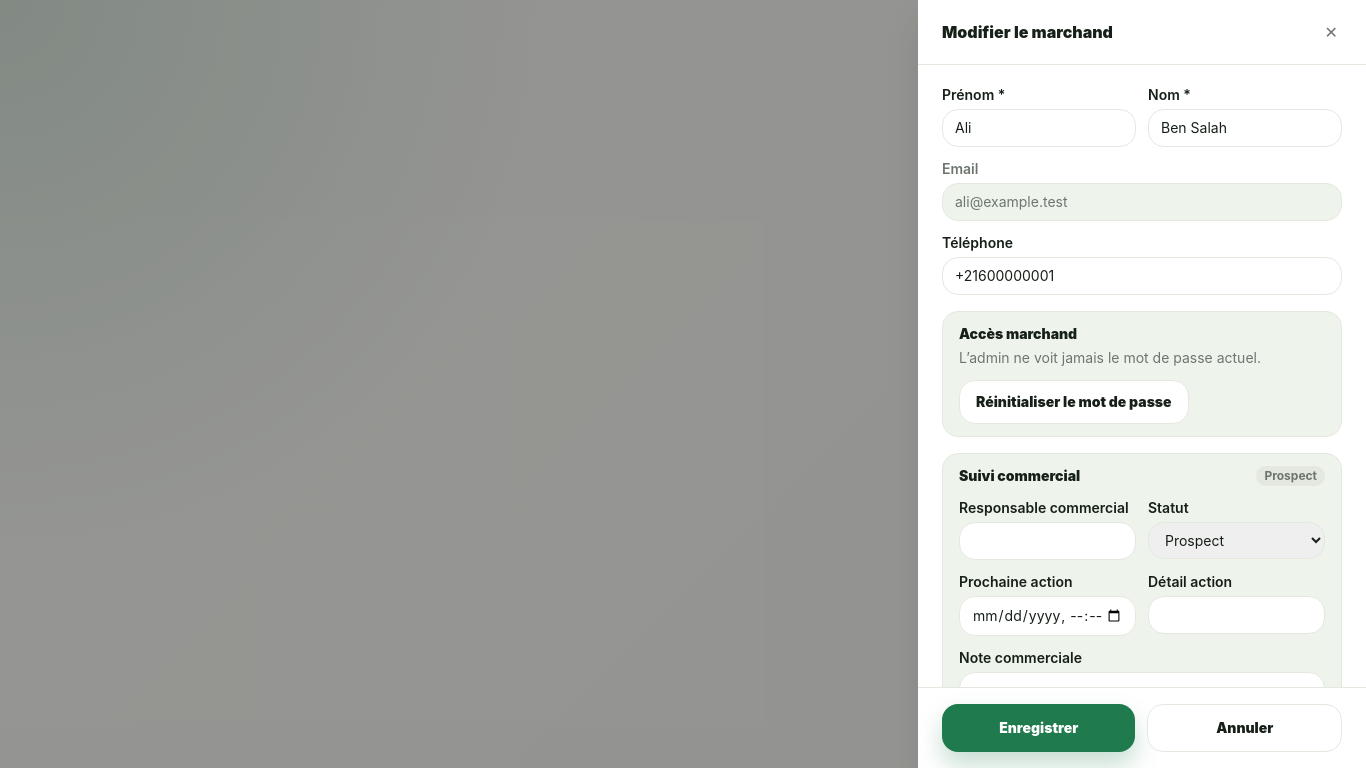
Scenario: MerchantDrawer › supprime le mot de passe temporaire après sauvegarde réussie
Click the button "Réinitialiser le mot de passe": (1074, 402) top-left (959, 380), bottom-right (1189, 424)
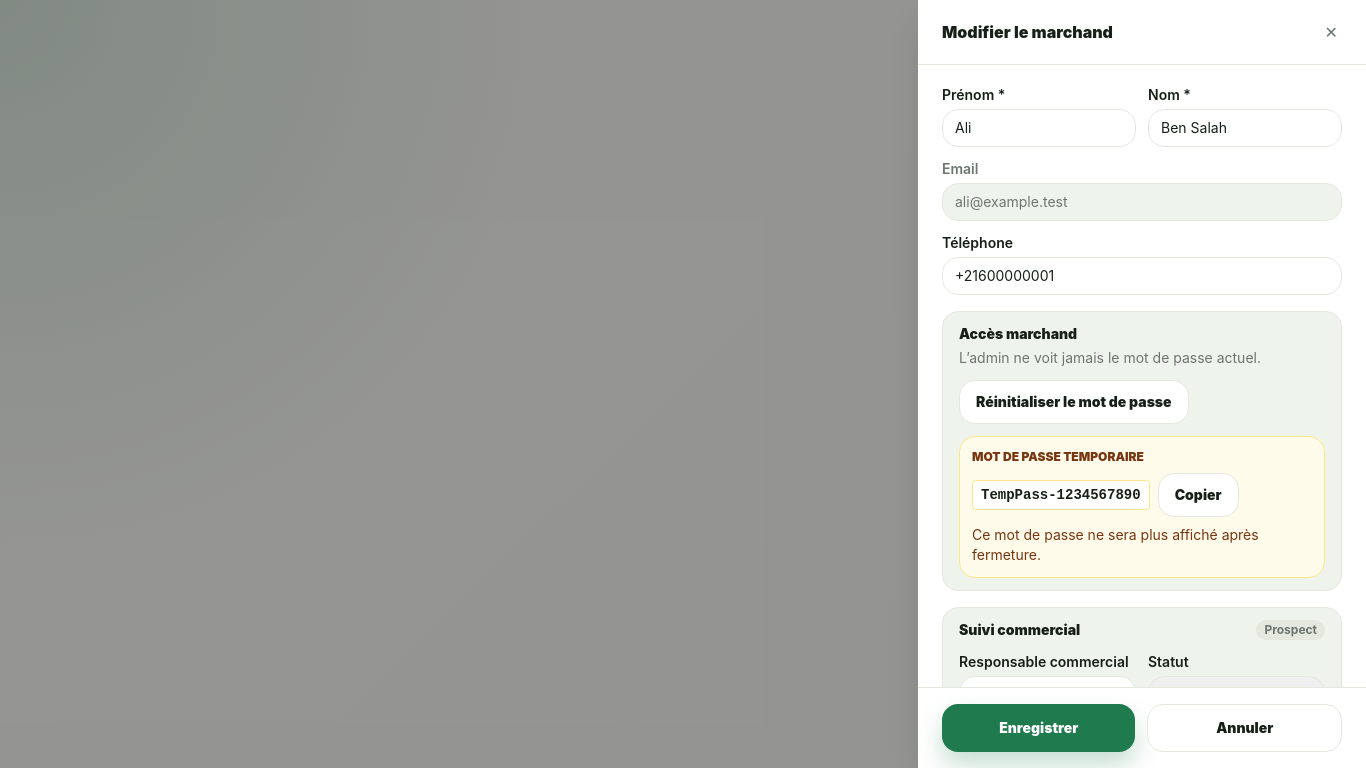
Check: the text "TempPass-1234567890" is shown, box top-left (972, 480), bottom-right (1150, 510)
Click the button "Enregistrer": (1039, 728) top-left (942, 704), bottom-right (1135, 752)
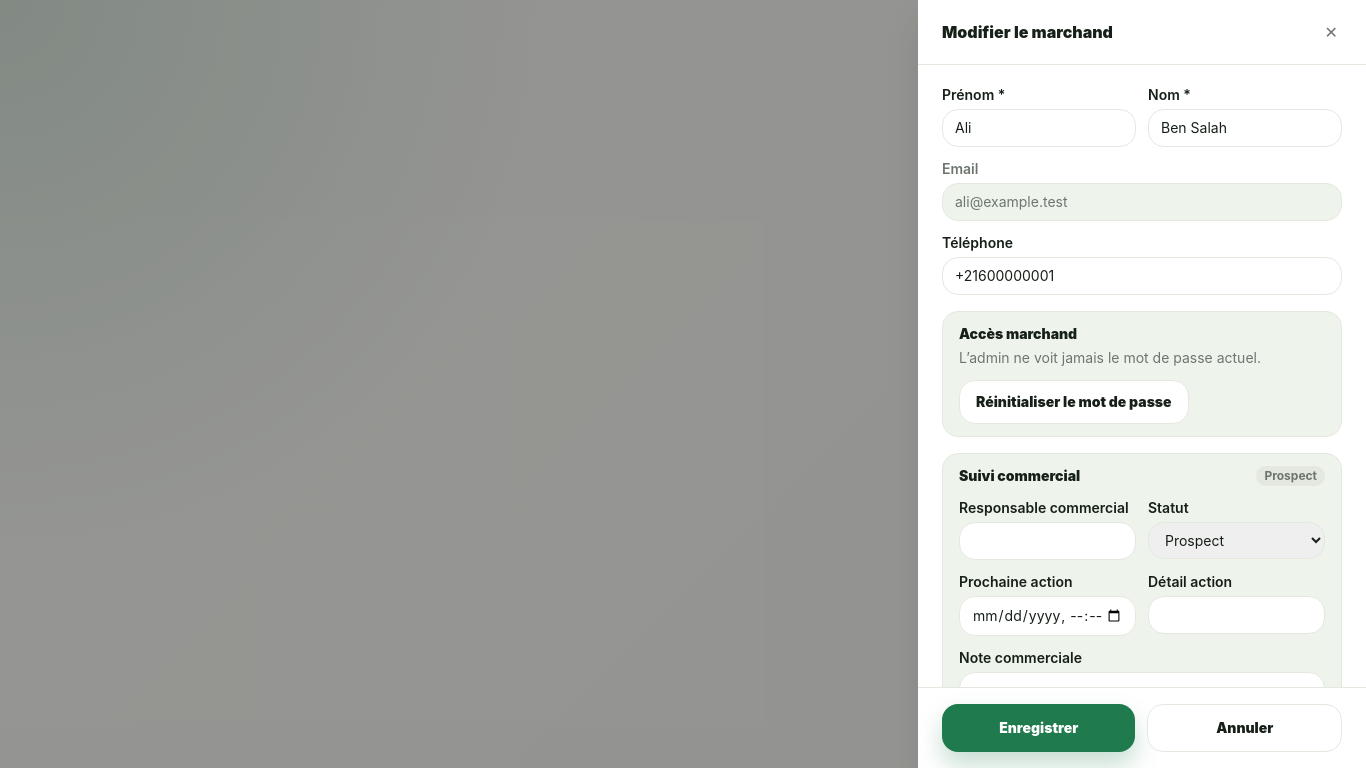
Check: the text "TempPass-1234567890" is gone
